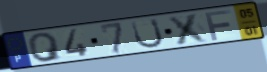4: (63, 27, 91, 59)
7: (98, 20, 125, 55)
F: (202, 8, 233, 41)
Q: (26, 31, 64, 63)
U: (129, 17, 165, 50)
X: (166, 12, 212, 47)
